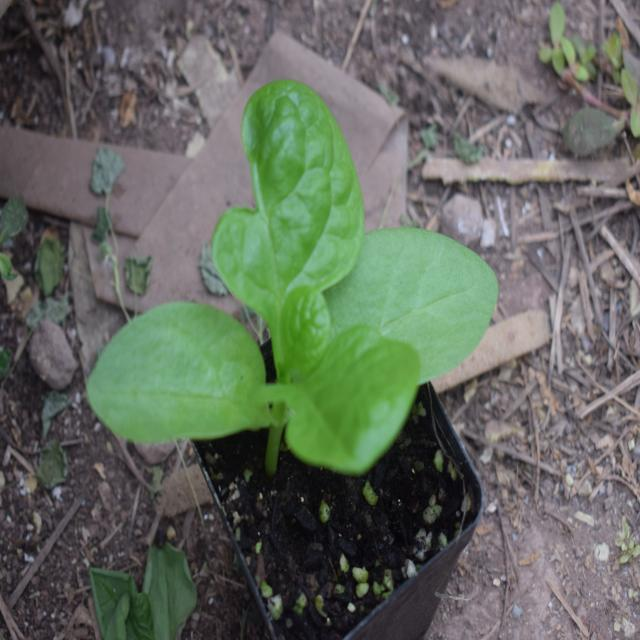Ceylon spinach: (104, 86, 503, 483)
